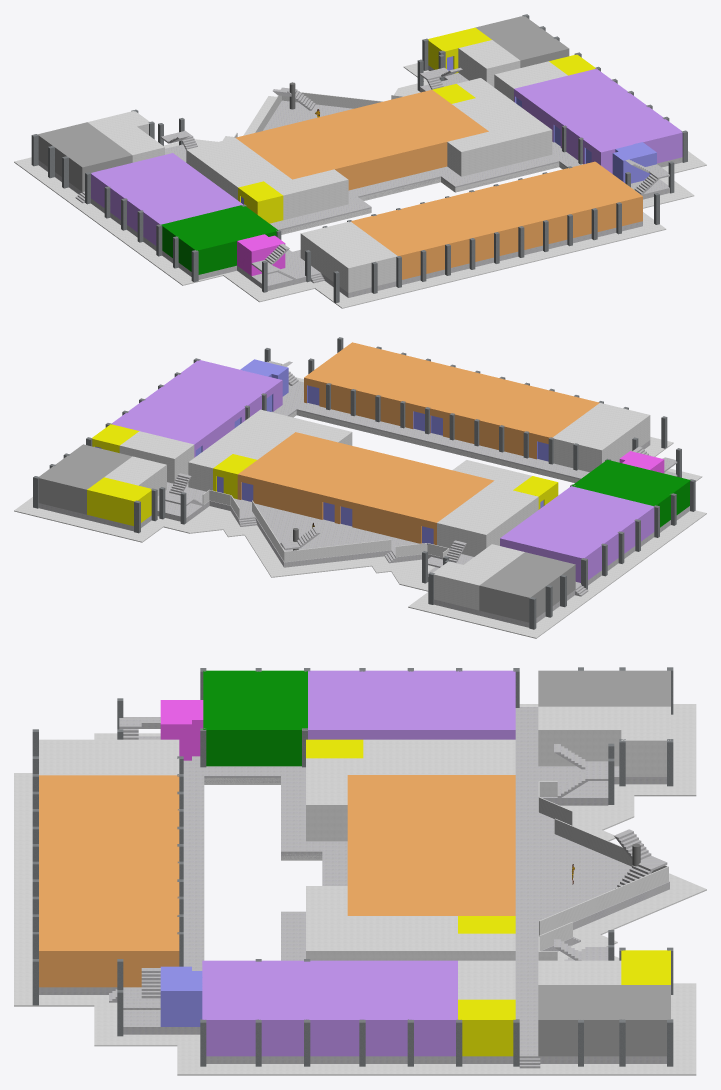
File: Annex 1GF.gltf
The picture shows the model from 3 angles, top to bottom: view 1: azimuth 30°, elevation 25°; view 2: azimuth 150°, elevation 25°; view 3: azimuth 270°, elevation 25°; orthographic projection. The views are drawn at different scales.
Parts seen in each view (by area): view 1: object 64, object 80, object 66, object 76, object 72, object 92, object 87, object 85, object 93, object 94, object 90, object 75 (+11 smaller); view 2: object 64, object 80, object 66, object 72, object 92, object 85, object 93, object 87, object 76, object 94, object 75, object 88 (+11 smaller); view 3: object 80, object 64, object 66, object 72, object 87, object 76, object 92, object 85, object 93, object 90, object 94, object 82 (+11 smaller).
Part boxes in pixels (left/top/right/bottom): object 64: left=14, top=63, right=706, bottom=308; object 80: left=38, top=65, right=682, bottom=297; object 66: left=514, top=68, right=682, bottom=173; object 76: left=447, top=40, right=567, bottom=176; object 72: left=474, top=161, right=642, bottom=249; object 92: left=351, top=192, right=519, bottom=279; object 87: left=91, top=153, right=242, bottom=245; object 85: left=334, top=90, right=488, bottom=179; object 93: left=235, top=114, right=390, bottom=190; object 94: left=186, top=138, right=348, bottom=220; object 90: left=161, top=205, right=278, bottom=274; object 75: left=300, top=221, right=397, bottom=292; object 64: left=14, top=377, right=706, bottom=638; object 80: left=38, top=381, right=689, bottom=627; object 66: left=112, top=360, right=282, bottom=457; object 72: left=304, top=342, right=475, bottom=431; object 92: left=429, top=372, right=599, bottom=461; object 85: left=237, top=432, right=394, bottom=523; object 93: left=337, top=456, right=494, bottom=545; object 87: left=500, top=486, right=654, bottom=582; object 76: left=104, top=409, right=352, bottom=495; object 94: left=437, top=460, right=538, bottom=556; object 75: left=553, top=403, right=650, bottom=472; object 88: left=479, top=552, right=575, bottom=622; object 80: left=39, top=707, right=669, bottom=1063; object 64: left=14, top=704, right=706, bottom=1075; object 66: left=202, top=960, right=457, bottom=1056; object 72: left=39, top=863, right=179, bottom=987; object 87: left=308, top=670, right=515, bottom=739; object 76: left=306, top=886, right=621, bottom=999; object 92: left=39, top=775, right=179, bottom=862; object 85: left=347, top=845, right=515, bottom=915; object 93: left=347, top=775, right=515, bottom=845; object 90: left=203, top=670, right=307, bottom=766; object 94: left=306, top=739, right=515, bottom=841; object 82: left=538, top=985, right=670, bottom=1056.
Bounding box in the file's own units: 63.37 × 3.59 × 50.1.
17 materials, 3 textured.
